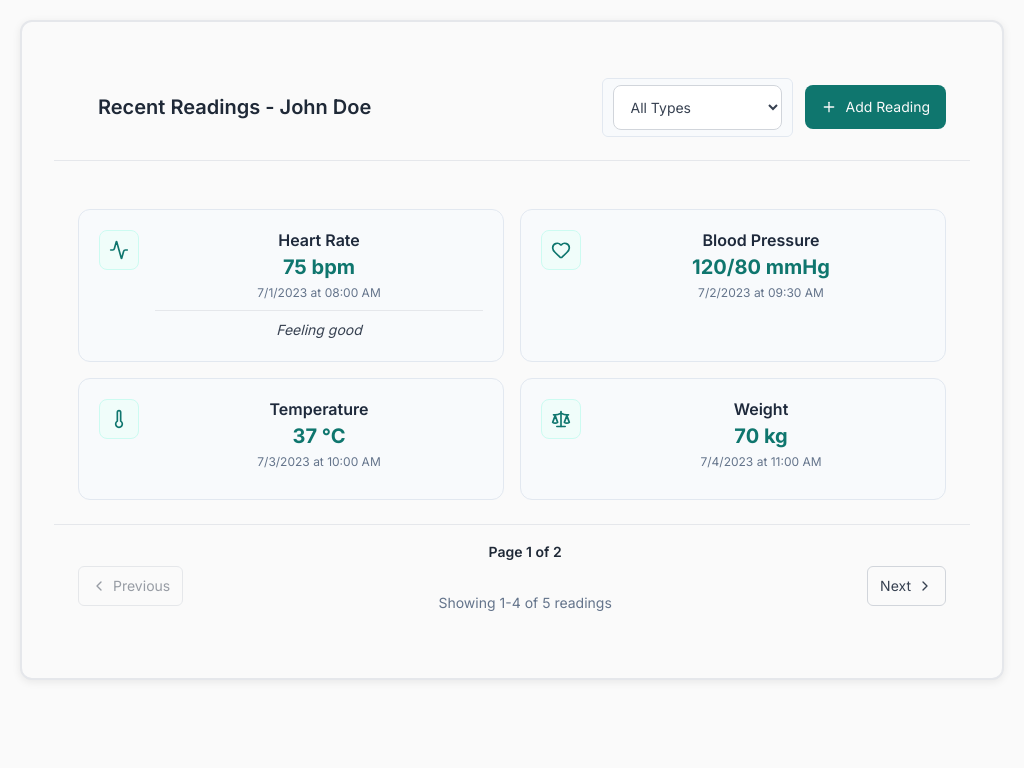
Scenario: ReadingsCard › displays pagination controls when readings exceed items per page
Expected: the text "Page 1 of 2" is shown, [488, 541, 562, 564]
Click the button "Next": (907, 586) [867, 566, 946, 606]
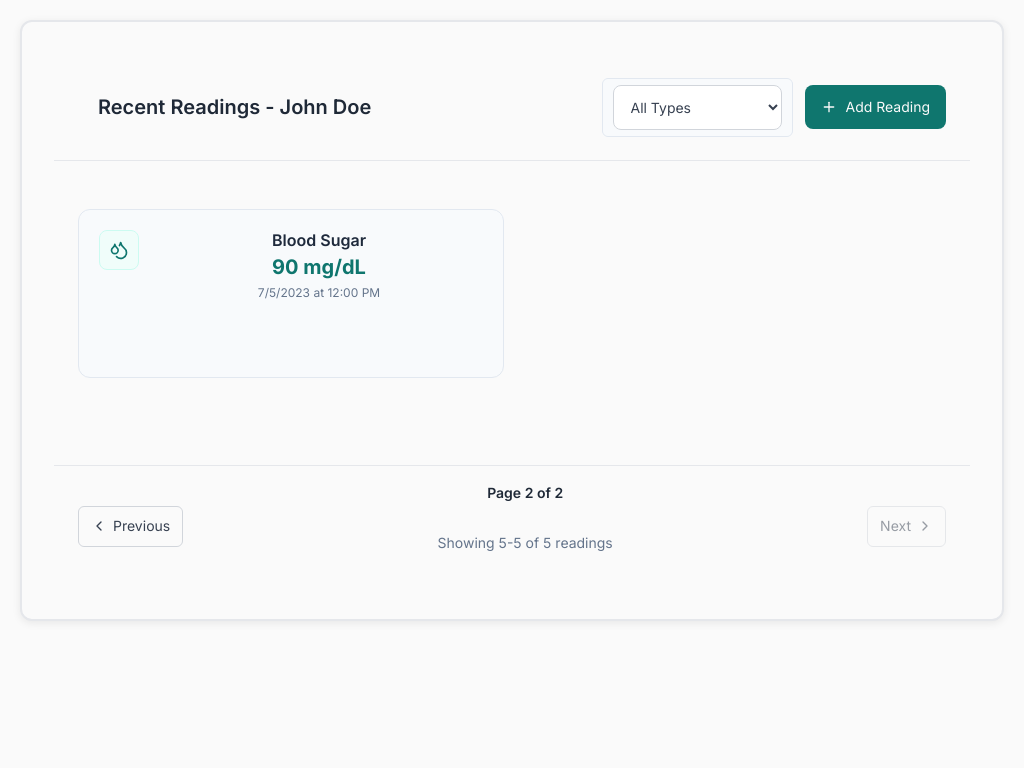
Result: the text "Page 2 of 2" is shown at [487, 482, 563, 504]
